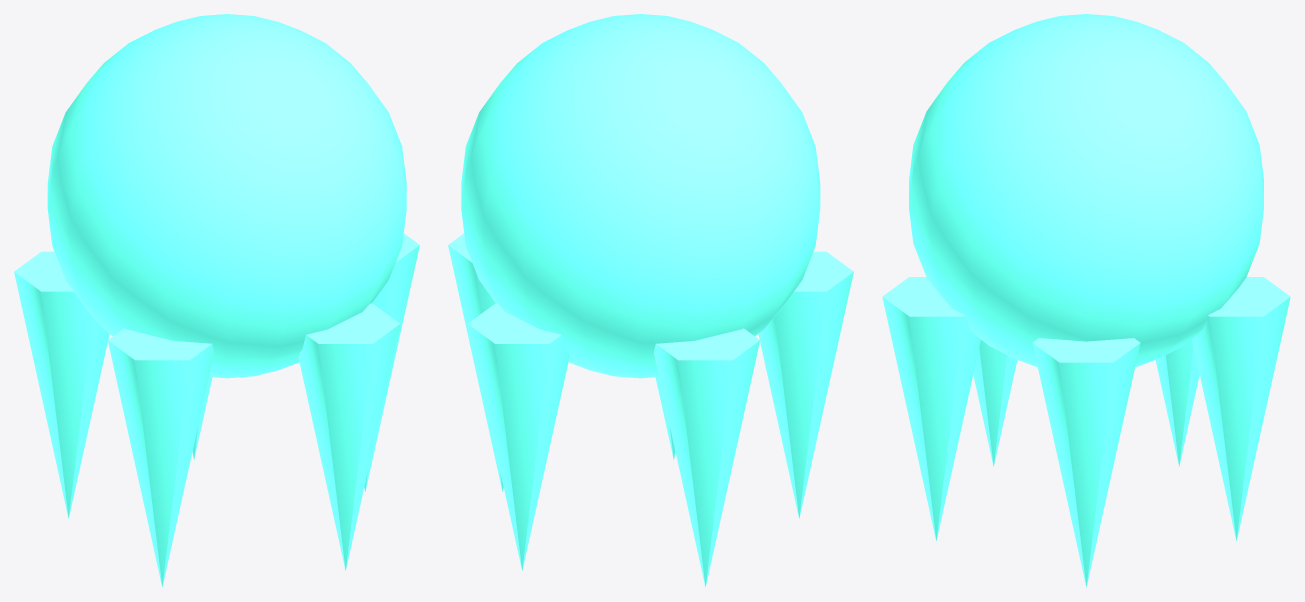
Rendered from neon_wisp.glb.
3 views of the same model, side by side, from view 1: azimuth 30°, elevation 25°; view 2: azimuth 150°, elevation 25°; view 3: azimuth 270°, elevation 25° (orthographic).
Parts seen in each view (by area): view 1: core; view 2: core; view 3: core.
Part boxes in pixels (x1,y1,x2,y2): core: [14, 14, 419, 587]; core: [448, 14, 853, 587]; core: [882, 14, 1290, 587].
Bounding box in the file's own units: 0.8539 × 1.2 × 0.9057.
